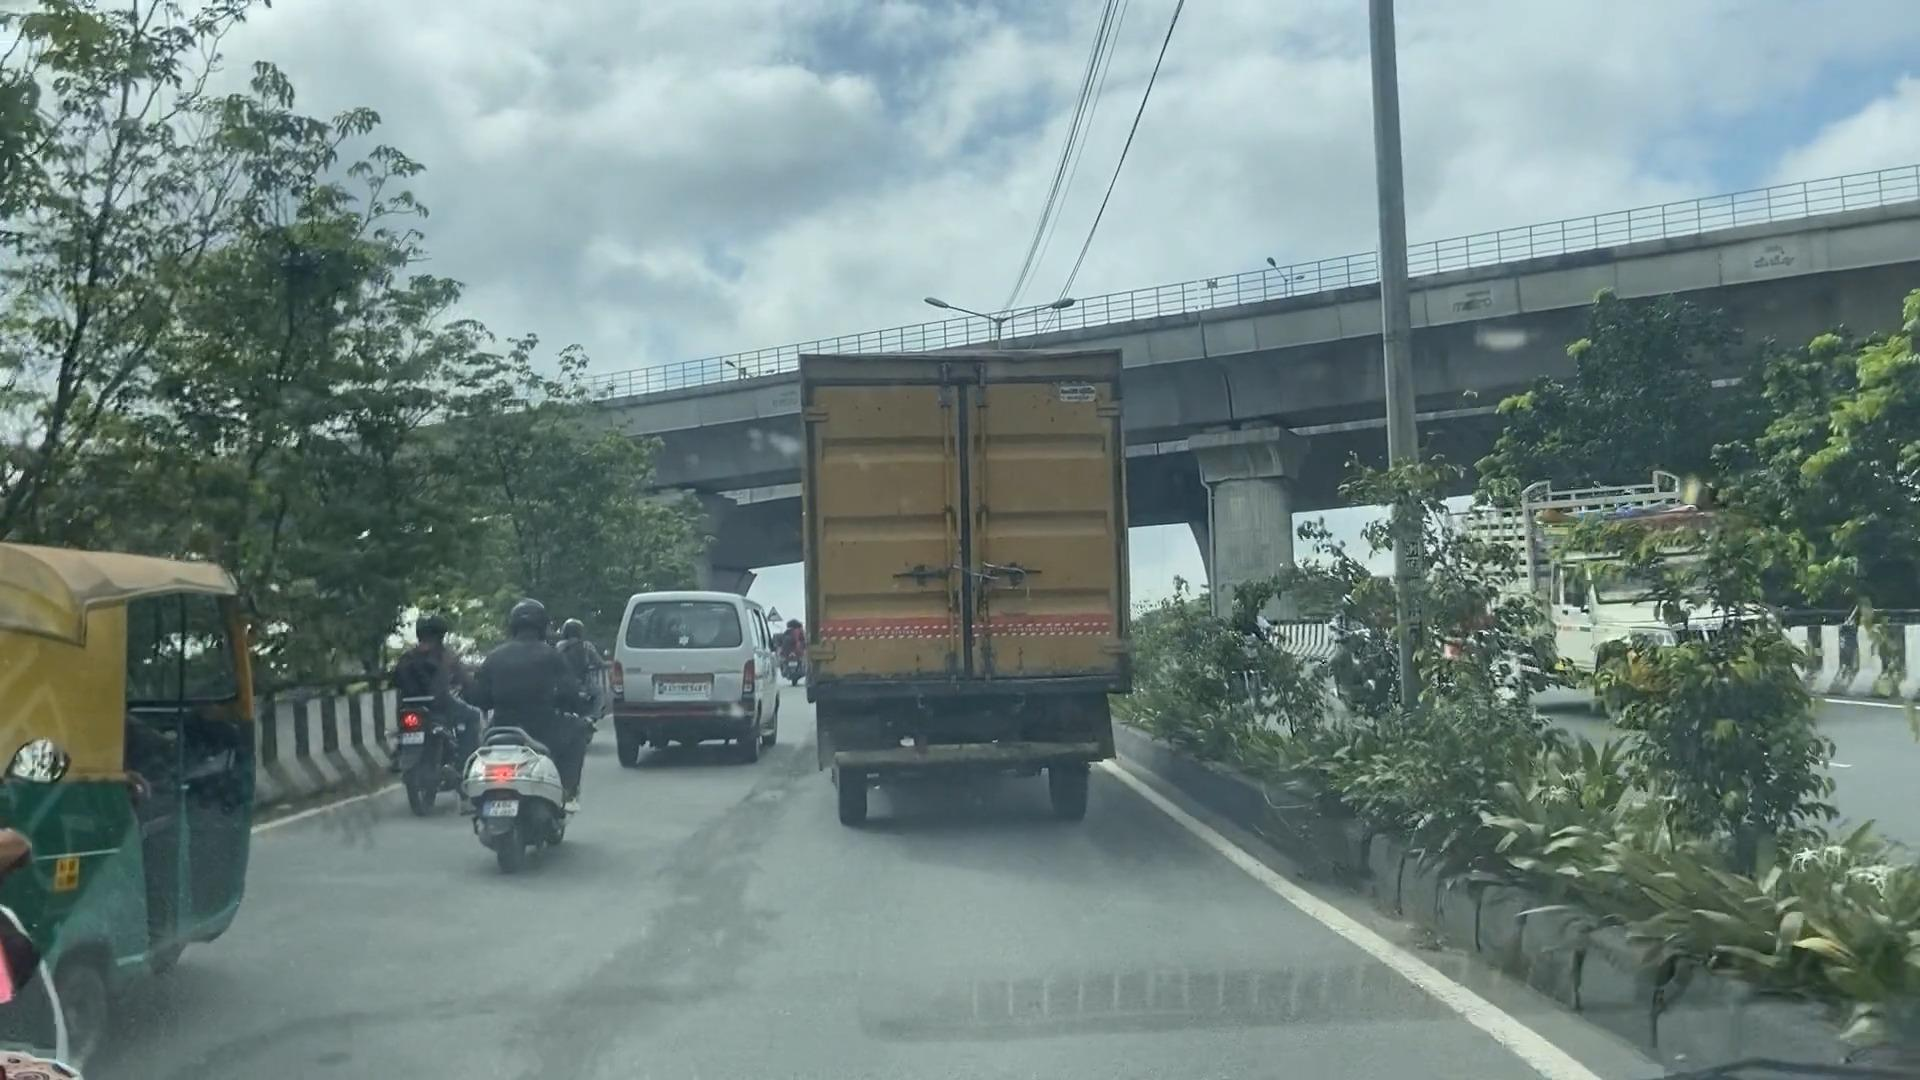HMV: (800, 349, 1125, 829)
LMV: (0, 554, 290, 1039), (473, 617, 583, 865), (620, 587, 753, 766), (393, 611, 455, 818)
